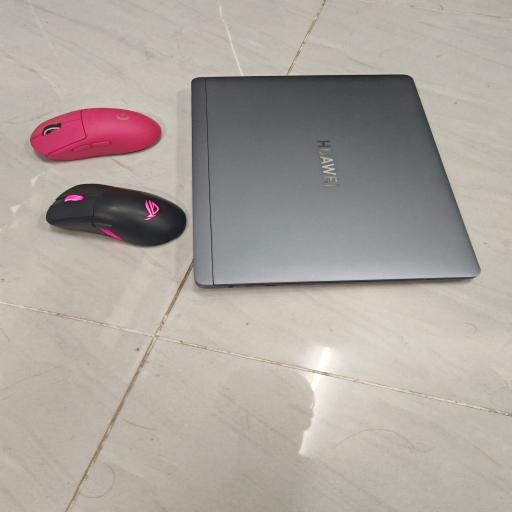laptop: (192, 75, 479, 287)
mouse: (46, 184, 186, 246), (30, 108, 161, 160)
